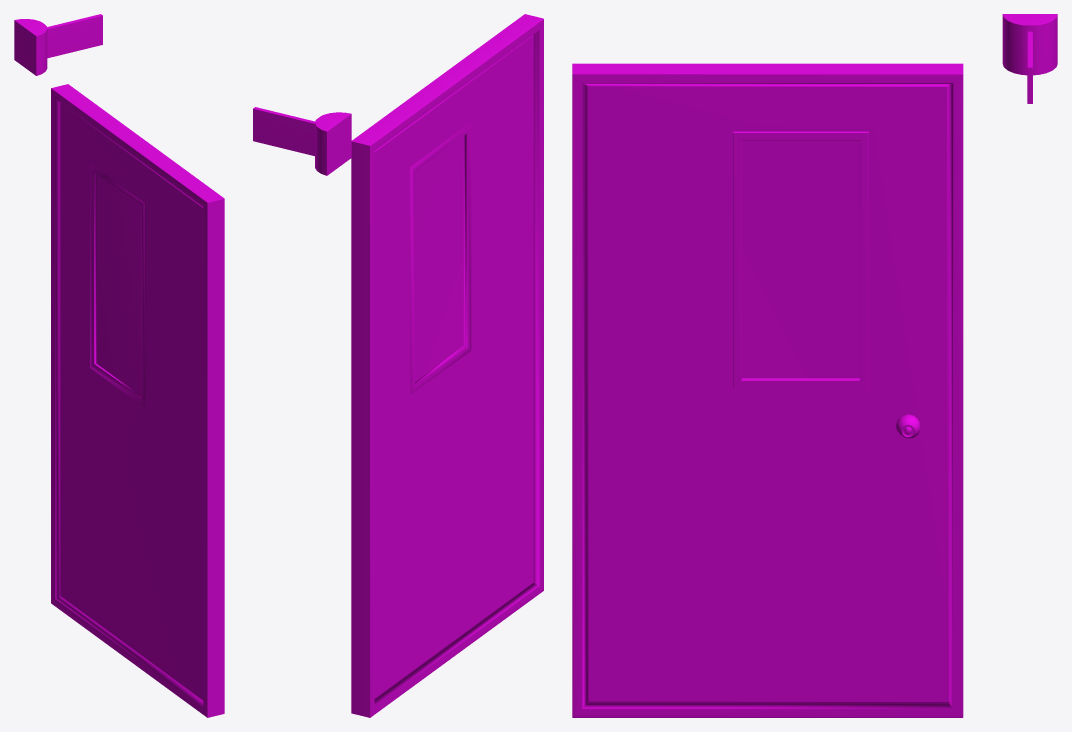
The model's file is School_ClassDoor OLD.fbx.
3 views of the same model, side by side, from view 1: azimuth 30°, elevation 25°; view 2: azimuth 150°, elevation 25°; view 3: azimuth 270°, elevation 25° (orthographic). The views are drawn at different scales.
Visible parts, largest first — view 1: ClassDoor, ClassDoor_Name; view 2: ClassDoor, ClassDoor_Name; view 3: ClassDoor, ClassDoor_Name.
Boxes of the visible parts, box(x1,y1,x2,y2) form: ClassDoor: box(51, 84, 224, 717); ClassDoor_Name: box(14, 14, 102, 75); ClassDoor: box(351, 14, 543, 717); ClassDoor_Name: box(253, 107, 351, 175); ClassDoor: box(572, 63, 963, 717); ClassDoor_Name: box(1002, 14, 1057, 103).
Bounding box in the file's own units: 1.07 × 7.27 × 4.61.
